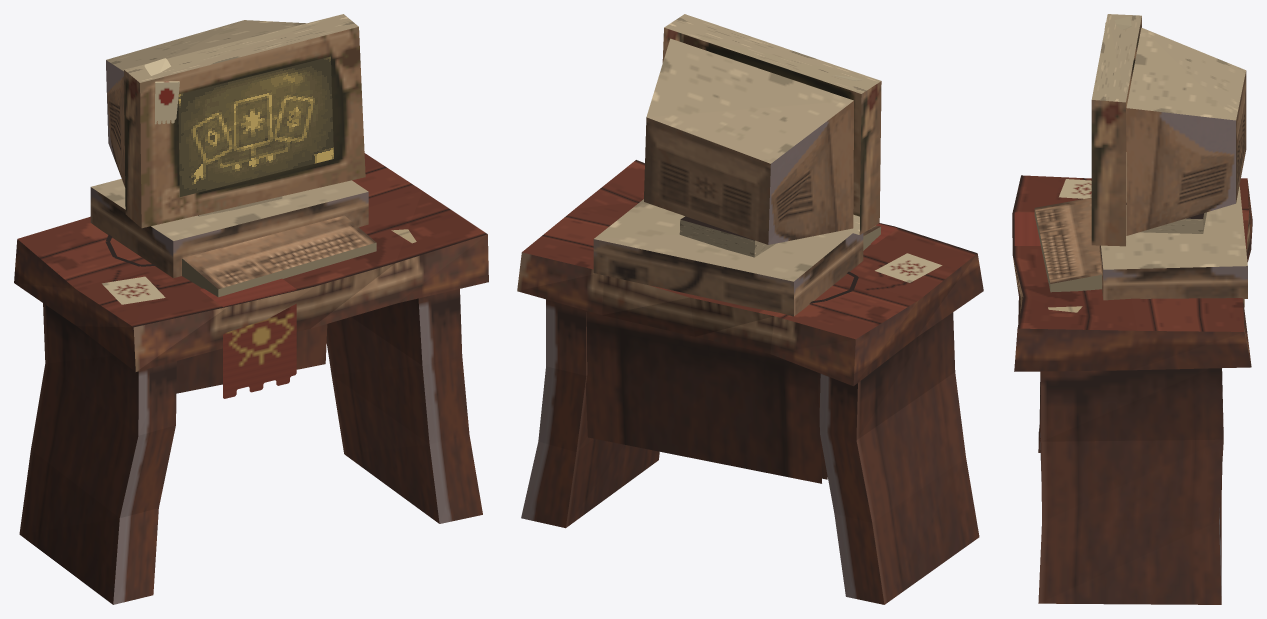
The model's file is SM_ComputerStation.fbx.
The picture shows the model from 3 angles, left to right: view 1: azimuth 30°, elevation 25°; view 2: azimuth 150°, elevation 25°; view 3: azimuth 270°, elevation 25°; orthographic projection. The views are drawn at different scales.
Visible parts, largest first — view 1: PC_Visual, PC_Screen, PC_Banner; view 2: PC_Visual; view 3: PC_Visual, PC_Banner.
Part boxes in pixels (left/top/right/bottom): PC_Visual: left=14, top=14, right=488, bottom=604; PC_Screen: left=178, top=56, right=333, bottom=196; PC_Banner: left=144, top=58, right=296, bottom=398; PC_Visual: left=517, top=14, right=983, bottom=604; PC_Visual: left=1012, top=14, right=1252, bottom=604; PC_Banner: left=1014, top=16, right=1131, bottom=245.
Bounding box in the file's own units: 1.12 × 1.4 × 0.665.
